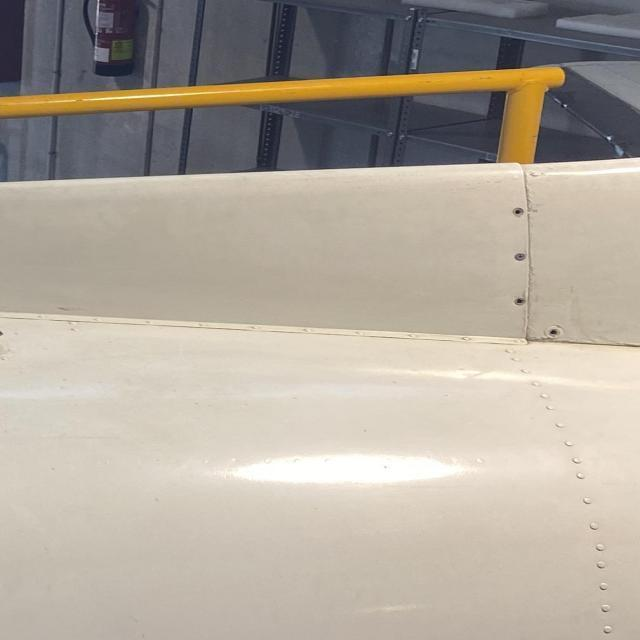Missing-head: (545, 325, 565, 338), (512, 208, 524, 217), (514, 297, 527, 305)
